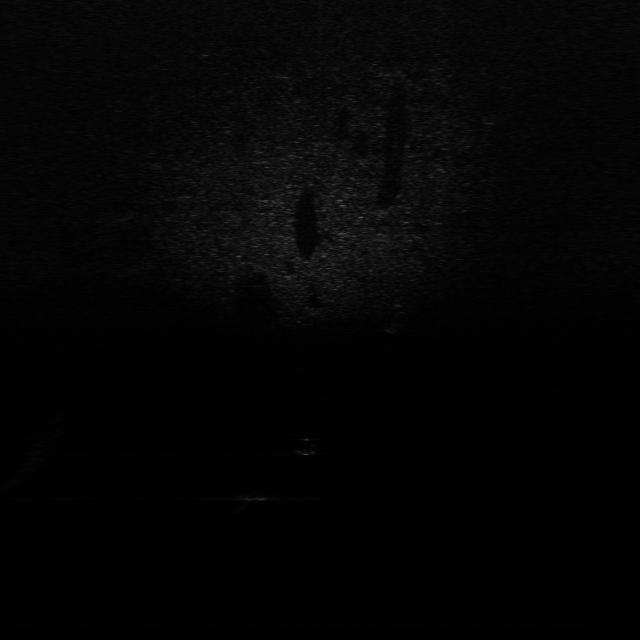ball: (290, 436, 326, 459)
square cage: (228, 488, 282, 503)
tyre: (383, 302, 411, 334)
